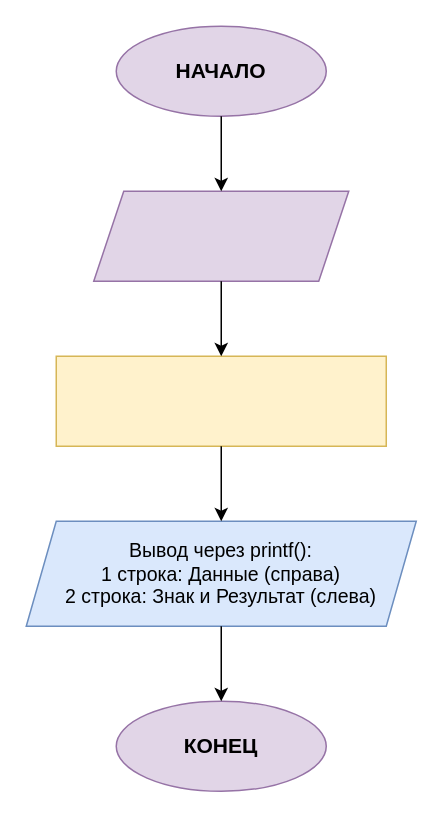
The diagram is 443 pixels wide and 818 high, and some of its shapes have lost their labels. The shapes that lost their labels are listed below. From the top down, each one's box as (x1, y1, x2, y2) in pixels, then its label:
(92, 190, 349, 281): Ввод: n, L, k, m
(55, 355, 386, 446): Результат (float) = (float)n / L
